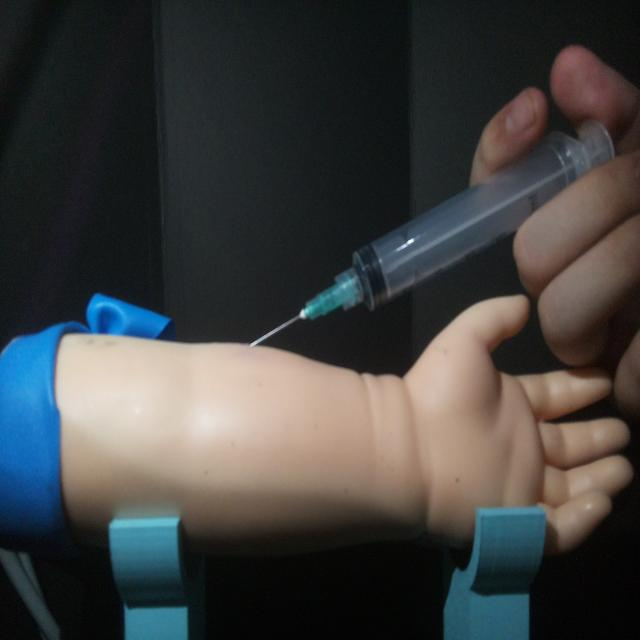25deg: (243, 114, 618, 352)
